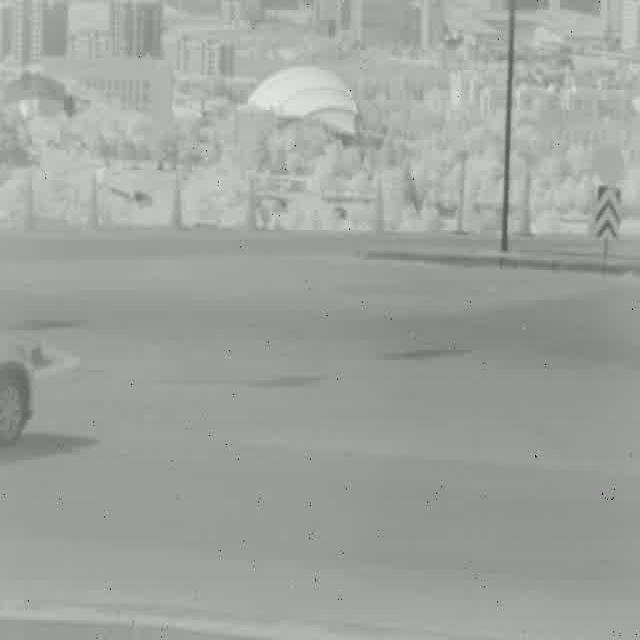Car: (0, 349, 29, 443)
